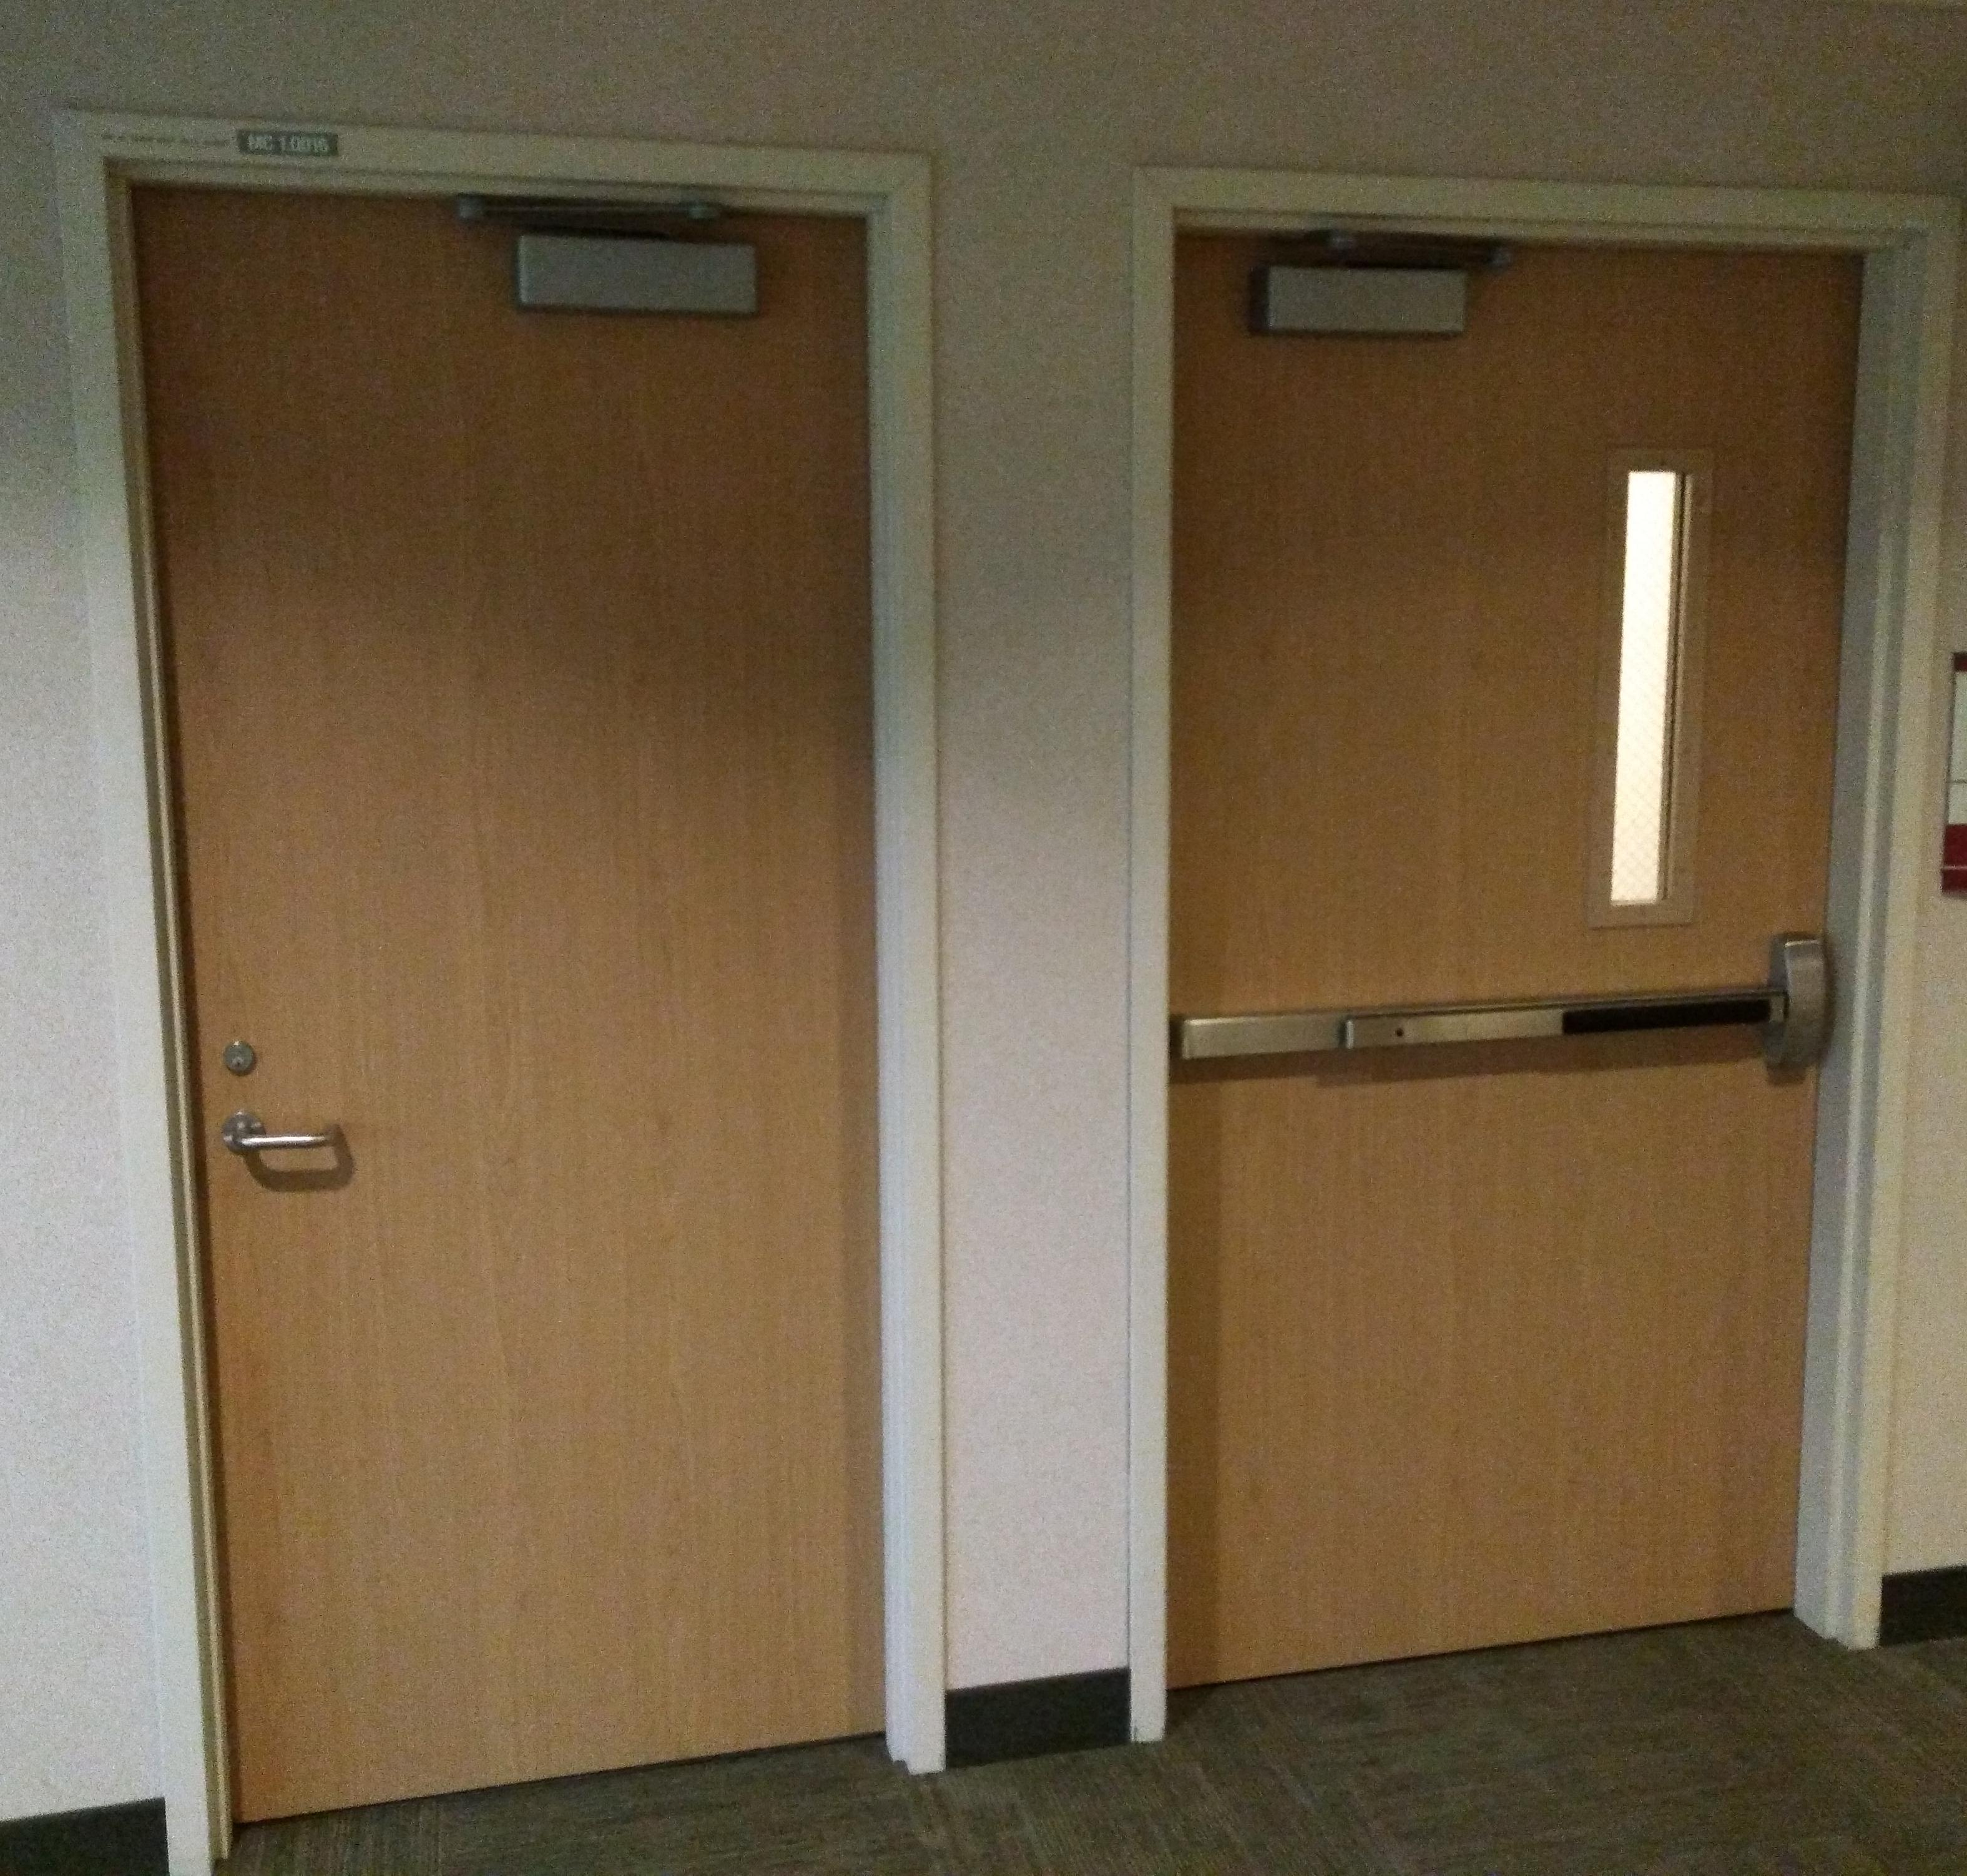door: (88, 132, 917, 1755), (1147, 213, 1821, 1670)
